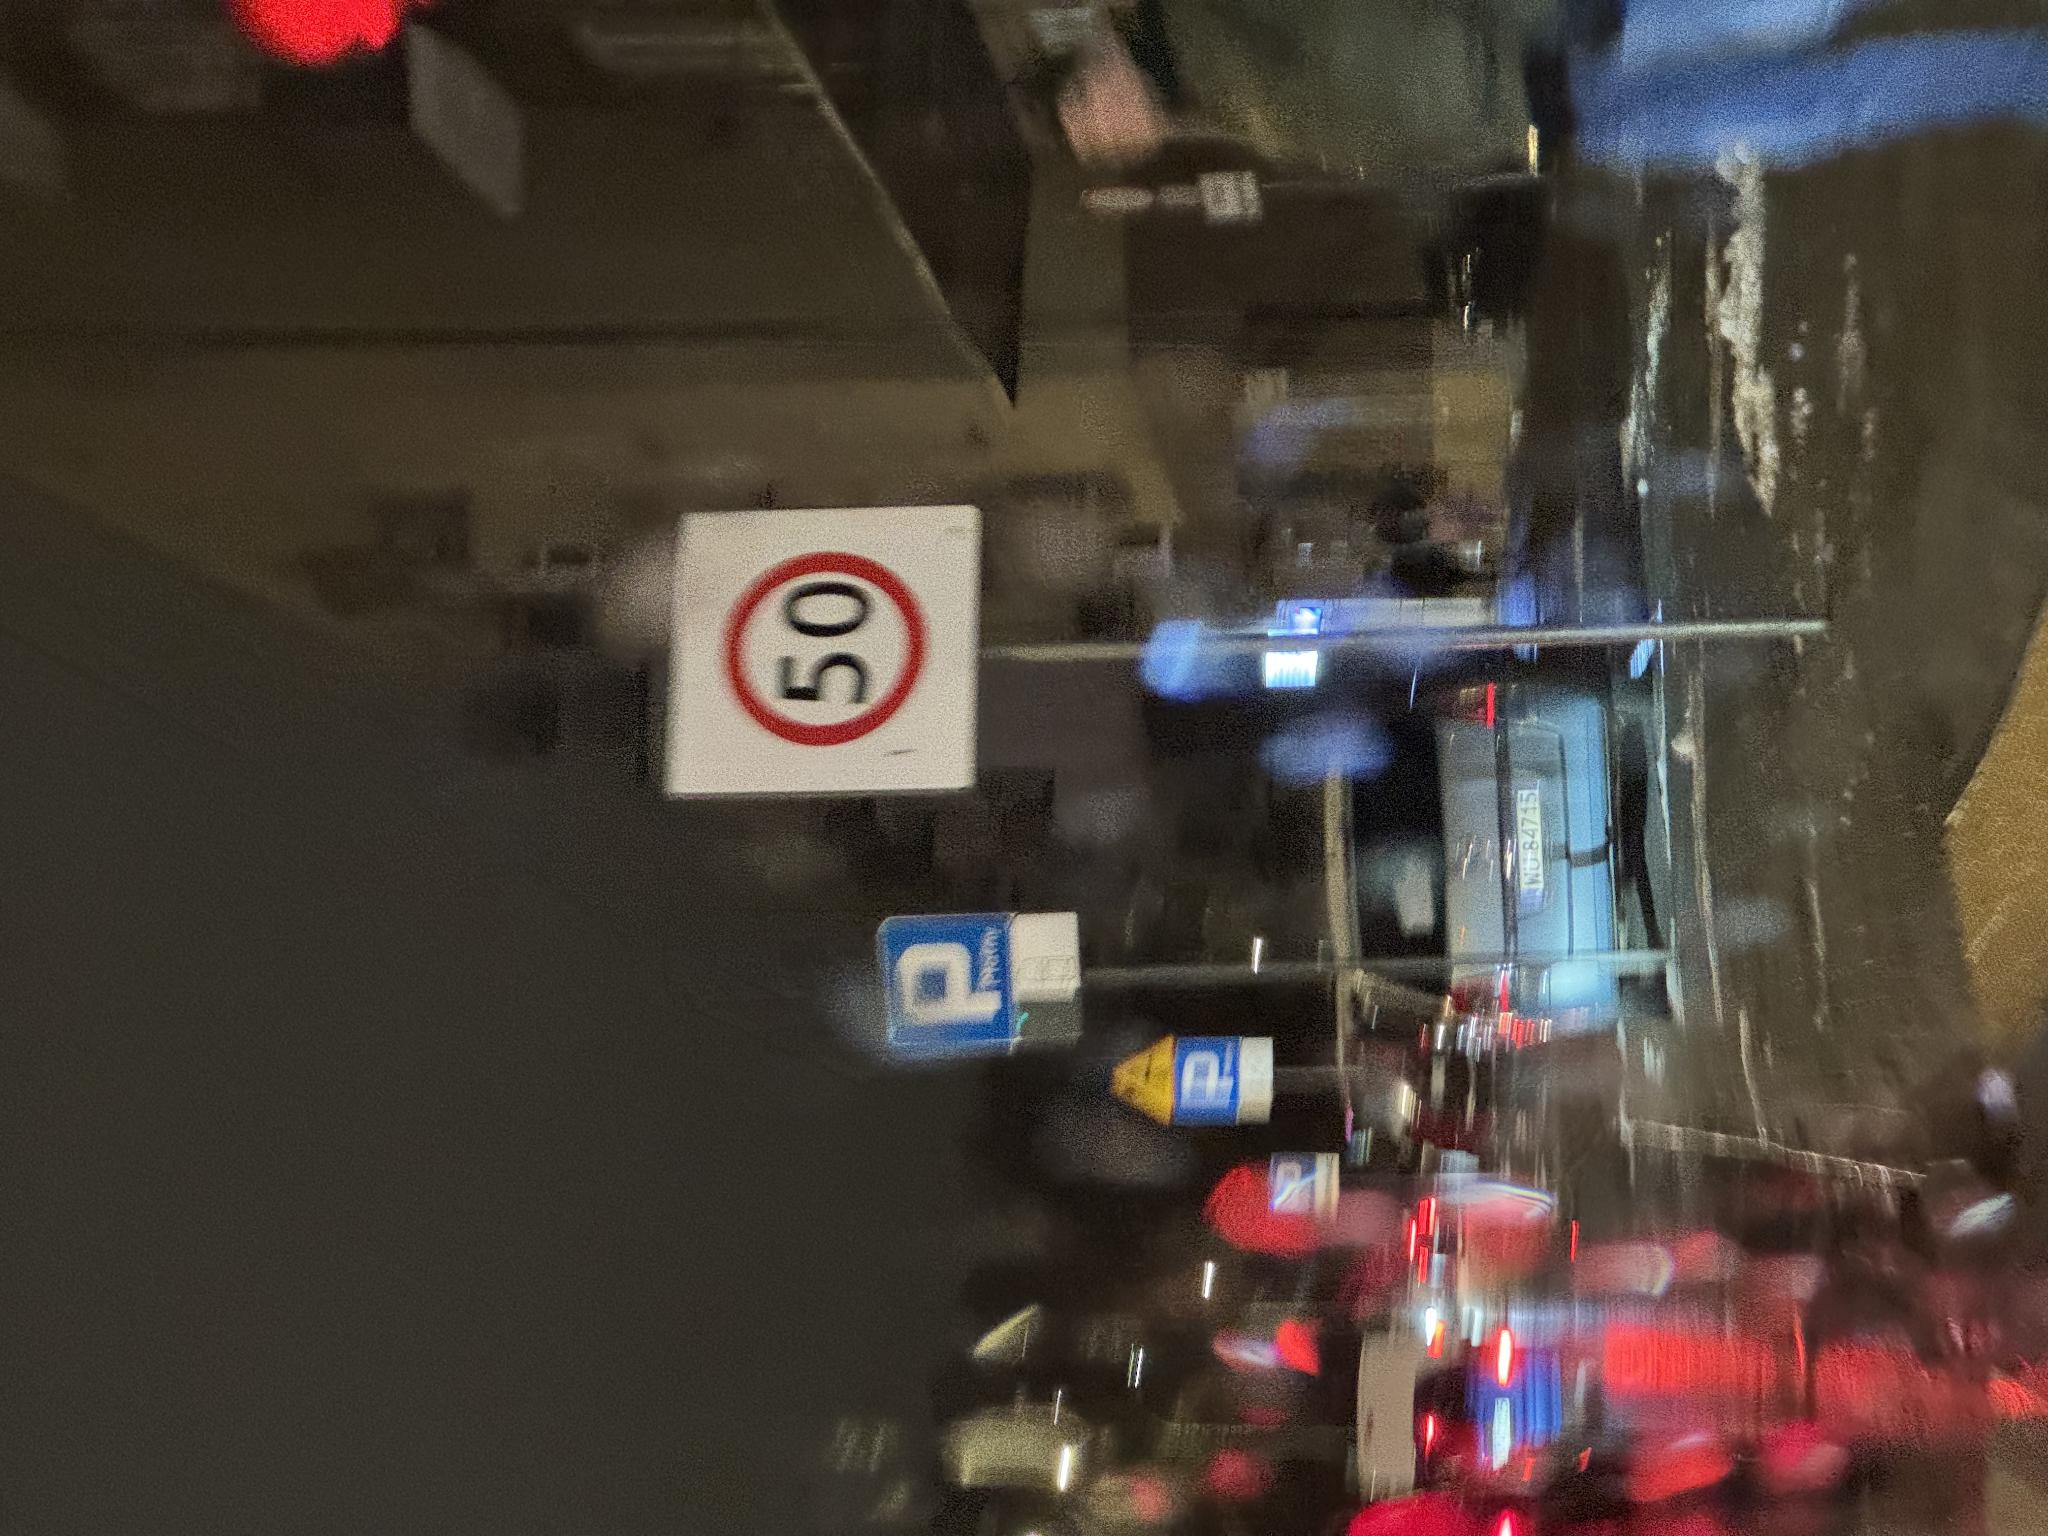information: (489, 879, 622, 1012)
prohibitory: (750, 676, 1029, 975)
